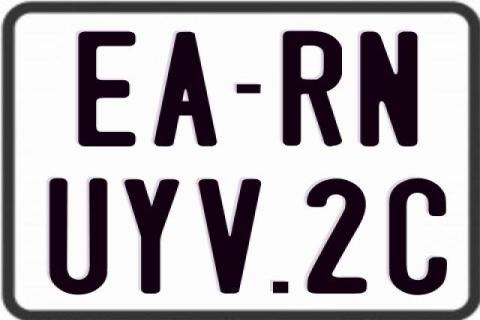0: (306, 177, 366, 295)
A: (154, 31, 221, 151)
C: (386, 176, 450, 295)
E: (77, 32, 136, 150)
N: (357, 31, 417, 148)
R: (281, 29, 341, 145)
U: (47, 178, 109, 294)
V: (198, 179, 266, 295)
Y: (124, 177, 182, 295)
